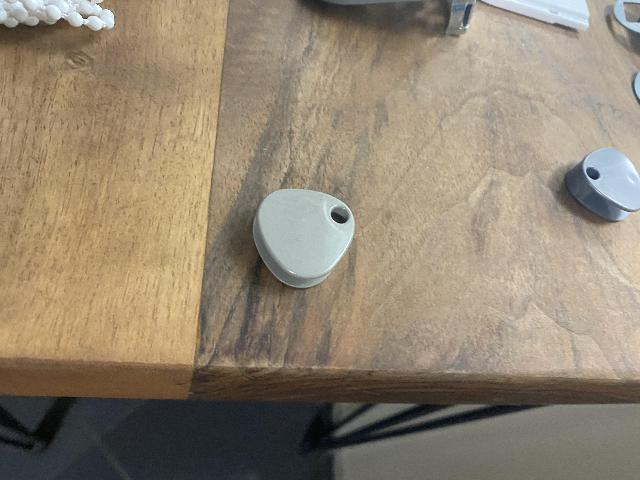Plastik: (251, 189, 367, 290), (573, 149, 640, 227)
